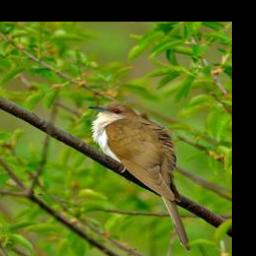Cuckoo: (87, 101, 194, 252)
